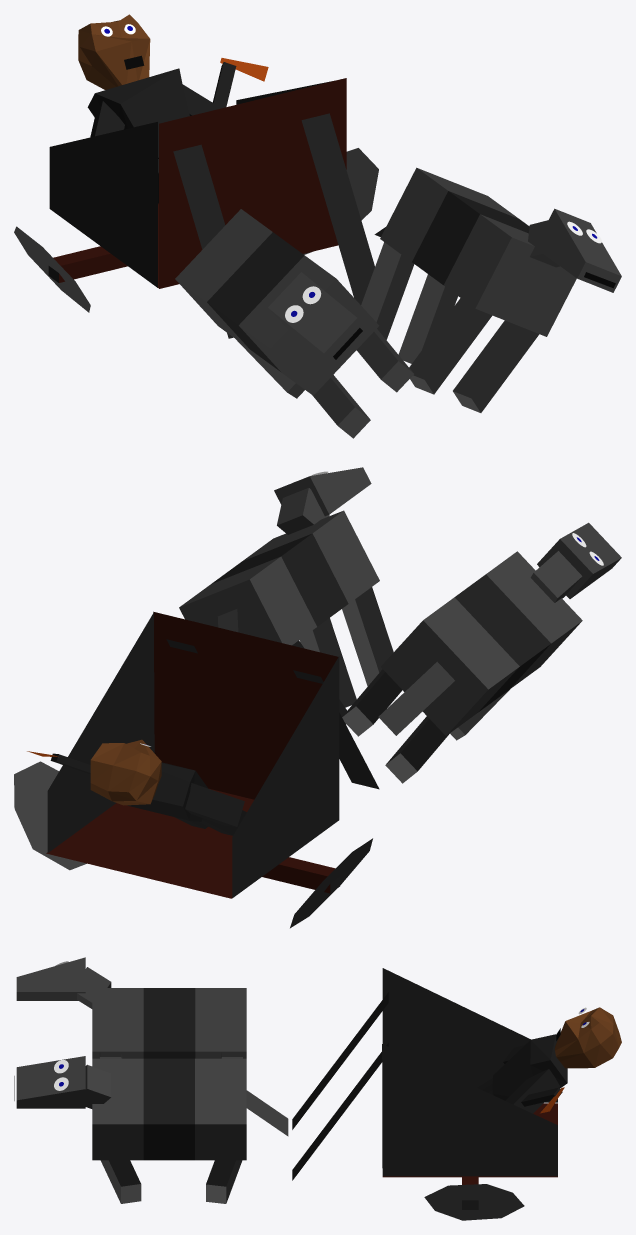
File: lightchariot1d.obj
3 renders of one model, top to bottom at view 1: azimuth 30°, elevation 25°; view 2: azimuth 150°, elevation 25°; view 3: azimuth 270°, elevation 25°, orthographic. The views are drawn at different scales.
Parts seen in each view (by area): view 1: Plane.005_Plane.006, Cube.006_Cube.009, Cube.015_Cube.017, Plane.003, Plane.013_Plane.014, Cube, Cube.021_Cube.023, Cube.001, Cube.014_Cube.016, Cube.011_Cube.013, Cube.012_Cube.014, Plane.012_Plane.013 (+10 smaller); view 2: Plane.005_Plane.006, Cube.015_Cube.017, Cube.006_Cube.009, Plane.003, Plane.002, Plane.004, Cube, Plane.006_Plane.007, Cube.012_Cube.014, Cube.021_Cube.023, Cube.014_Cube.016, Plane.010_Plane.011 (+10 smaller); view 3: Plane.004, Cube.006_Cube.009, Cube.015_Cube.017, Plane.003, Cube.014_Cube.016, Cube, Plane.006_Plane.007, Cube.001, Cube.021_Cube.023, Cube.011_Cube.013, Plane.012_Plane.013, Cube.010_Cube.012 (+7 smaller).
Boxes of the visible parts, x1=… form: Plane.005_Plane.006: x1=159, y1=78, x2=346, y2=288; Cube.006_Cube.009: x1=380, y1=167, x2=576, y2=336; Cube.015_Cube.017: x1=175, y1=209, x2=379, y2=395; Plane.003: x1=49, y1=122, x2=157, y2=287; Plane.013_Plane.014: x1=301, y1=113, x2=374, y2=304; Cube: x1=78, y1=14, x2=150, y2=89; Cube.021_Cube.023: x1=268, y1=272, x2=366, y2=363; Cube.001: x1=87, y1=68, x2=189, y2=158; Cube.014_Cube.016: x1=534, y1=208, x2=621, y2=292; Cube.011_Cube.013: x1=453, y1=320, x2=539, y2=412; Cube.012_Cube.014: x1=409, y1=298, x2=492, y2=394; Plane.012_Plane.013: x1=173, y1=144, x2=233, y2=338; Plane.005_Plane.006: x1=153, y1=611, x2=338, y2=799; Cube.015_Cube.017: x1=381, y1=551, x2=582, y2=735; Cube.006_Cube.009: x1=179, y1=510, x2=379, y2=645; Plane.003: x1=232, y1=656, x2=339, y2=898; Plane.002: x1=46, y1=788, x2=253, y2=898; Plane.004: x1=47, y1=612, x2=154, y2=852; Cube: x1=90, y1=739, x2=161, y2=805; Plane.006_Plane.007: x1=14, y1=761, x2=86, y2=870; Cube.012_Cube.014: x1=342, y1=587, x2=393, y2=686; Cube.021_Cube.023: x1=537, y1=522, x2=621, y2=598; Cube.014_Cube.016: x1=274, y1=467, x2=371, y2=516; Plane.010_Plane.011: x1=378, y1=661, x2=454, y2=735; Plane.004: x1=382, y1=1044, x2=557, y2=1176; Cube.006_Cube.009: x1=92, y1=1058, x2=246, y2=1160; Cube.015_Cube.017: x1=92, y1=988, x2=246, y2=1058; Plane.003: x1=382, y1=968, x2=557, y2=1102; Cube.014_Cube.016: x1=16, y1=1056, x2=85, y2=1108; Cube: x1=554, y1=1007, x2=621, y2=1068; Plane.006_Plane.007: x1=424, y1=1184, x2=524, y2=1220; Cube.001: x1=492, y1=1034, x2=567, y2=1100; Cube.021_Cube.023: x1=16, y1=957, x2=85, y2=1000; Cube.011_Cube.013: x1=100, y1=1160, x2=141, y2=1203; Plane.012_Plane.013: x1=292, y1=992, x2=388, y2=1129; Cube.010_Cube.012: x1=206, y1=1160, x2=242, y2=1203.
Size of the model in its own units: 8.76 by 5.45 by 16.65.
